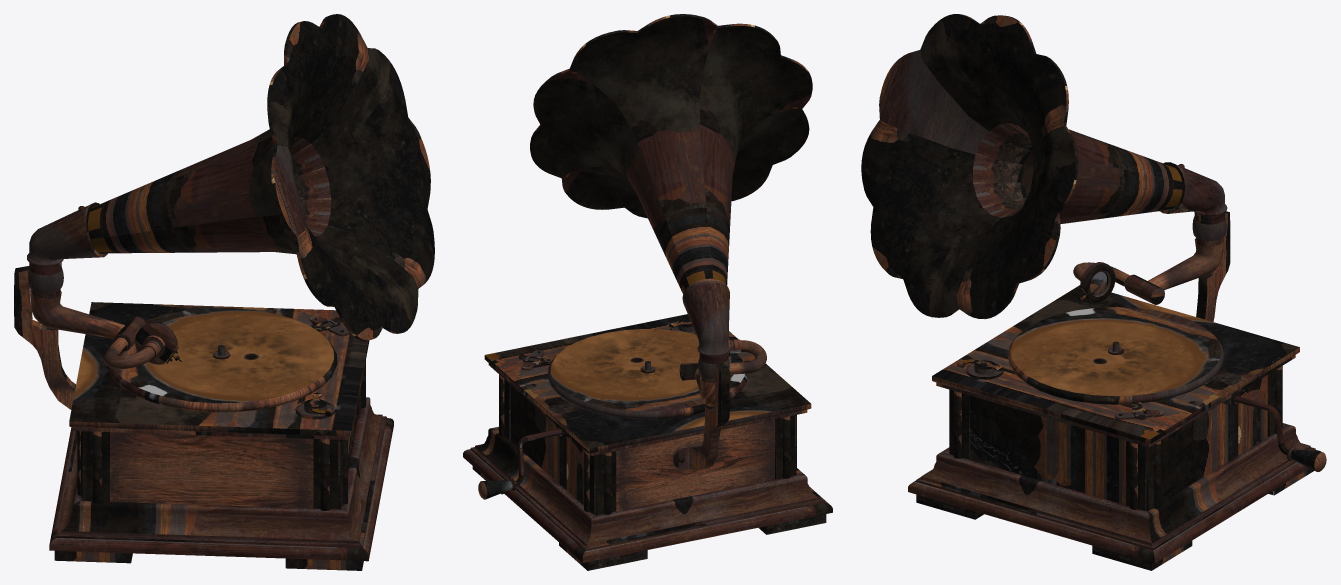
The model's file is sonido.obj.
The picture shows the model from 3 angles, left to right: view 1: azimuth 30°, elevation 25°; view 2: azimuth 150°, elevation 25°; view 3: azimuth 270°, elevation 25°; orthographic projection. The views are drawn at different scales.
Parts seen in each view (by area): view 1: mesh0_dat_desirefx_me__obj_1; view 2: mesh0_dat_desirefx_me__obj_1; view 3: mesh0_dat_desirefx_me__obj_1.
Part boxes in pixels (bbox=[...]): mesh0_dat_desirefx_me__obj_1: bbox=[14, 14, 434, 570]; mesh0_dat_desirefx_me__obj_1: bbox=[463, 14, 832, 570]; mesh0_dat_desirefx_me__obj_1: bbox=[861, 14, 1326, 570].
Size of the model in its own units: 19.12 by 24.21 by 21.37.
1 material, 1 textured.
